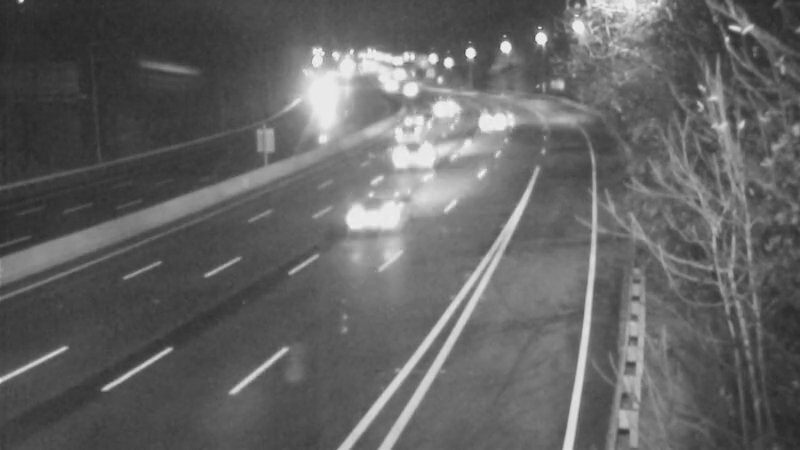vehicle: (372, 117, 452, 197), (340, 176, 420, 256), (383, 64, 433, 114), (415, 83, 465, 133), (466, 97, 516, 147), (380, 104, 430, 154), (293, 74, 343, 124)
